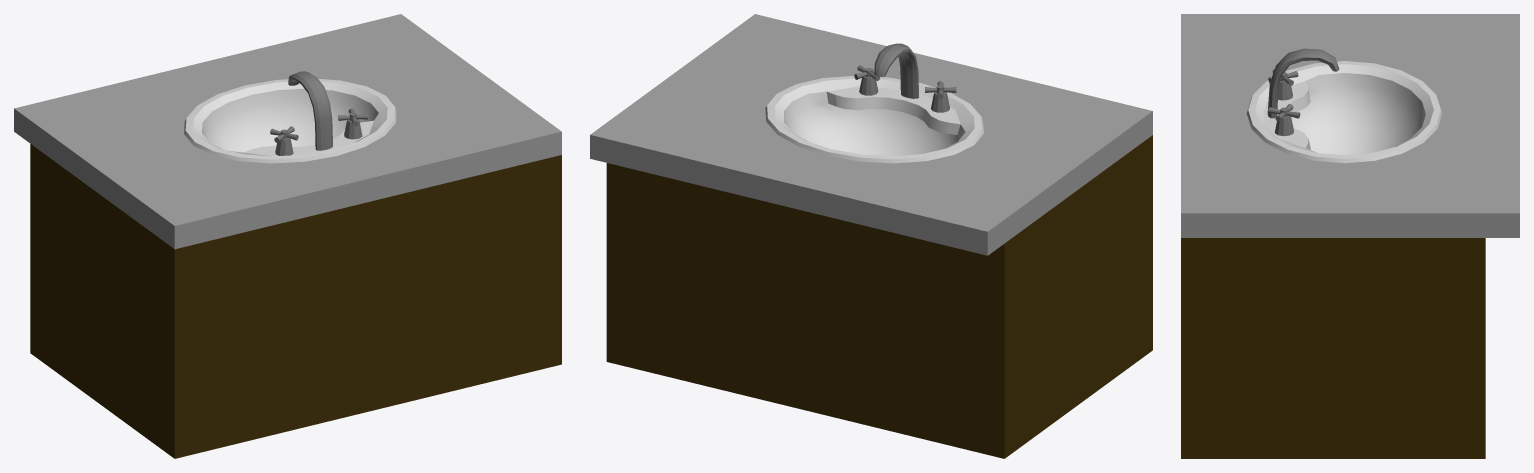
File: sink.fbx
3 views of the same model, side by side, from view 1: azimuth 30°, elevation 25°; view 2: azimuth 150°, elevation 25°; view 3: azimuth 270°, elevation 25° (orthographic). The views are drawn at different scales.
Visible parts, largest first — view 1: pCube3; view 2: pCube3; view 3: pCube3.
Boxes of the visible parts, <box> form: pCube3: <box>14,14,561,458</box>; pCube3: <box>590,14,1152,458</box>; pCube3: <box>1181,14,1519,458</box>.
Size of the model in its own units: 206 by 148 by 148.
